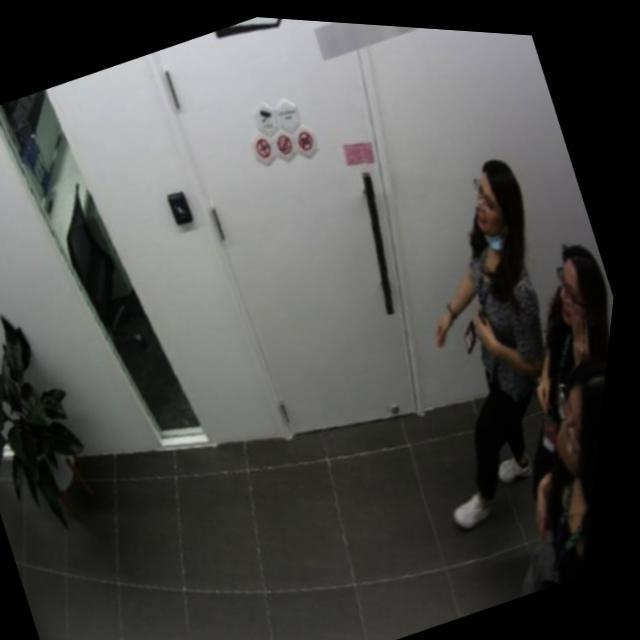hairnet: (461, 168, 522, 250)
